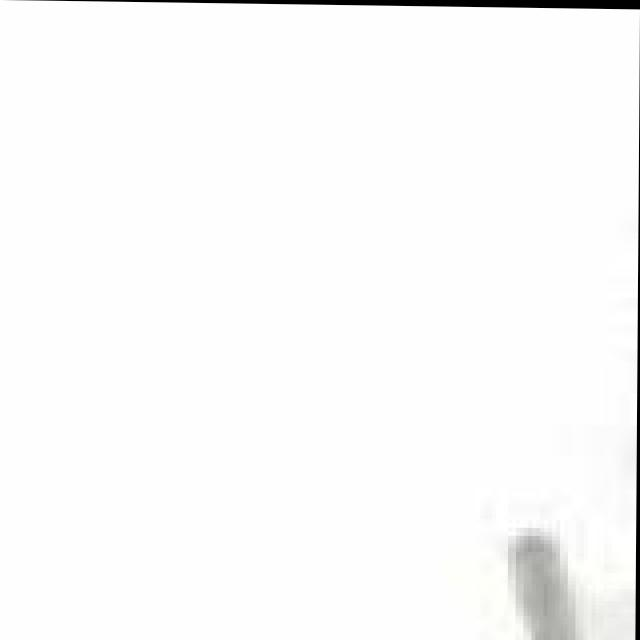potentiometer: (372, 596, 637, 640)
